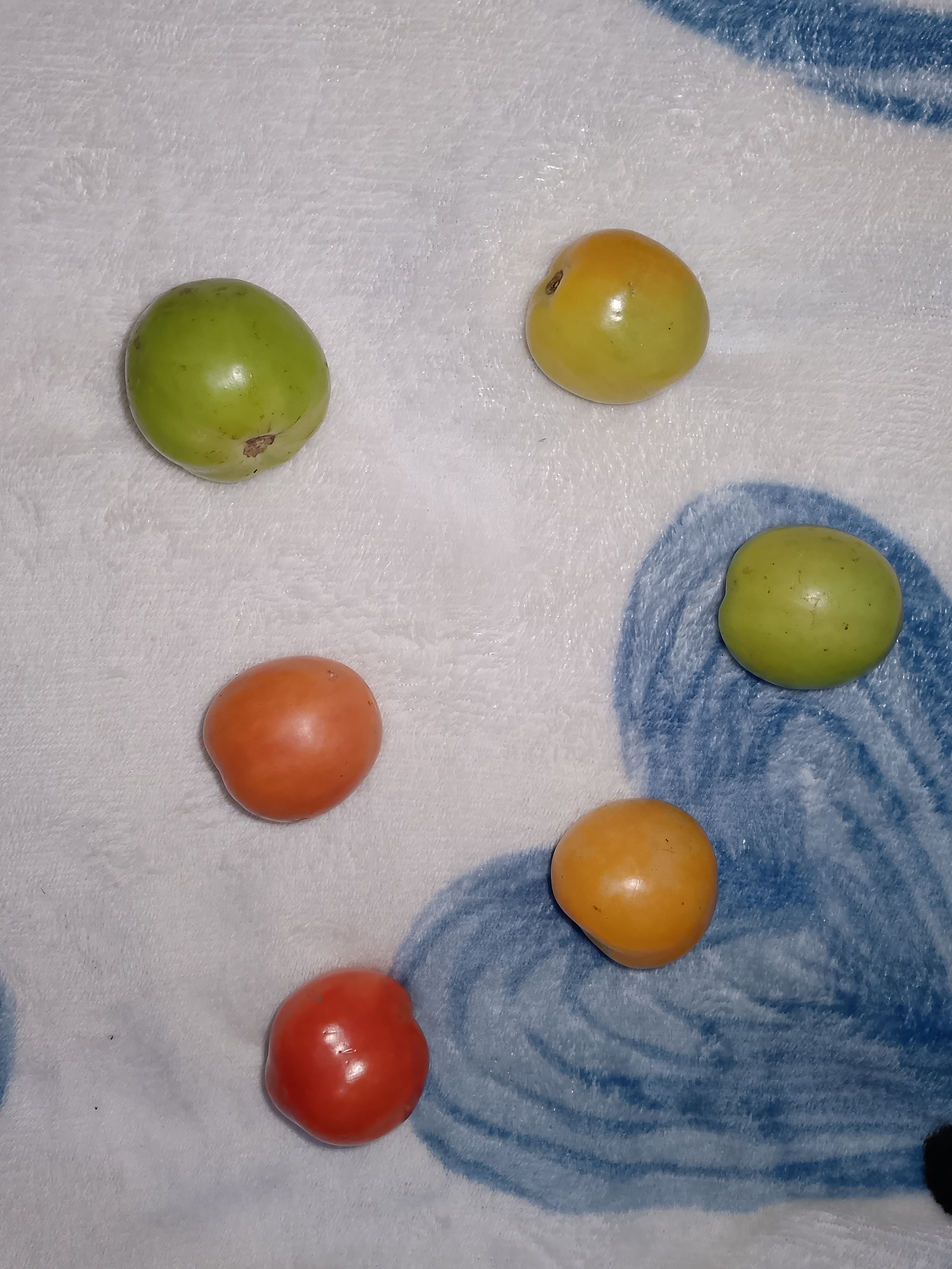Ripe: (187, 908, 498, 1202), (519, 763, 784, 984), (184, 631, 400, 843)
Unripe: (36, 226, 376, 522), (514, 200, 763, 446), (680, 483, 940, 693)
